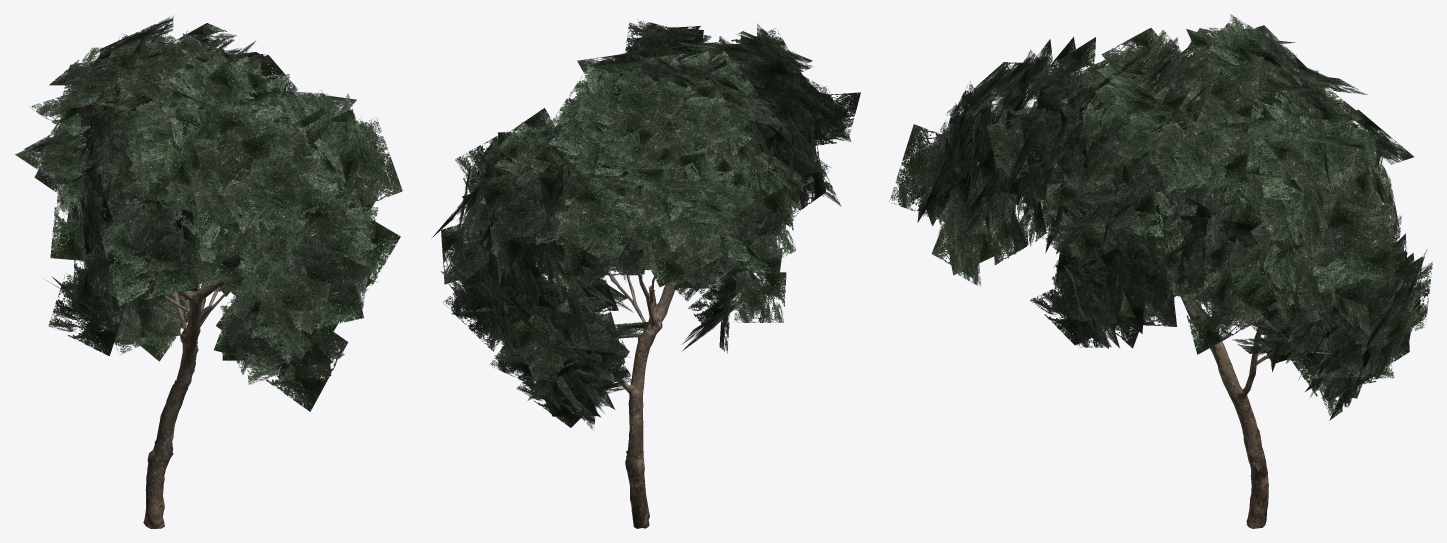
File: keng_1.glb
3 renders of one model, left to right at view 1: azimuth 30°, elevation 25°; view 2: azimuth 150°, elevation 25°; view 3: azimuth 270°, elevation 25°, orthographic. The views are drawn at different scales.
Parts seen in each view (by area): view 1: keng_1_leaves, tree_small_02_trunk; view 2: keng_1_leaves, tree_small_02_trunk; view 3: keng_1_leaves, tree_small_02_trunk.
Boxes of the visible parts, bbox=[...] form: keng_1_leaves: bbox=[15, 16, 402, 411]; tree_small_02_trunk: bbox=[143, 272, 233, 528]; keng_1_leaves: bbox=[431, 19, 860, 429]; tree_small_02_trunk: bbox=[575, 270, 678, 528]; keng_1_leaves: bbox=[889, 14, 1432, 420]; tree_small_02_trunk: bbox=[1177, 169, 1268, 528].
Size of the model in its own units: 7.17 by 10.62 by 10.46.
3 materials, 3 textured.
